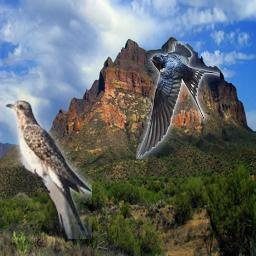Cuckoo: (6, 100, 92, 239)
Swallow: (136, 41, 220, 159)
